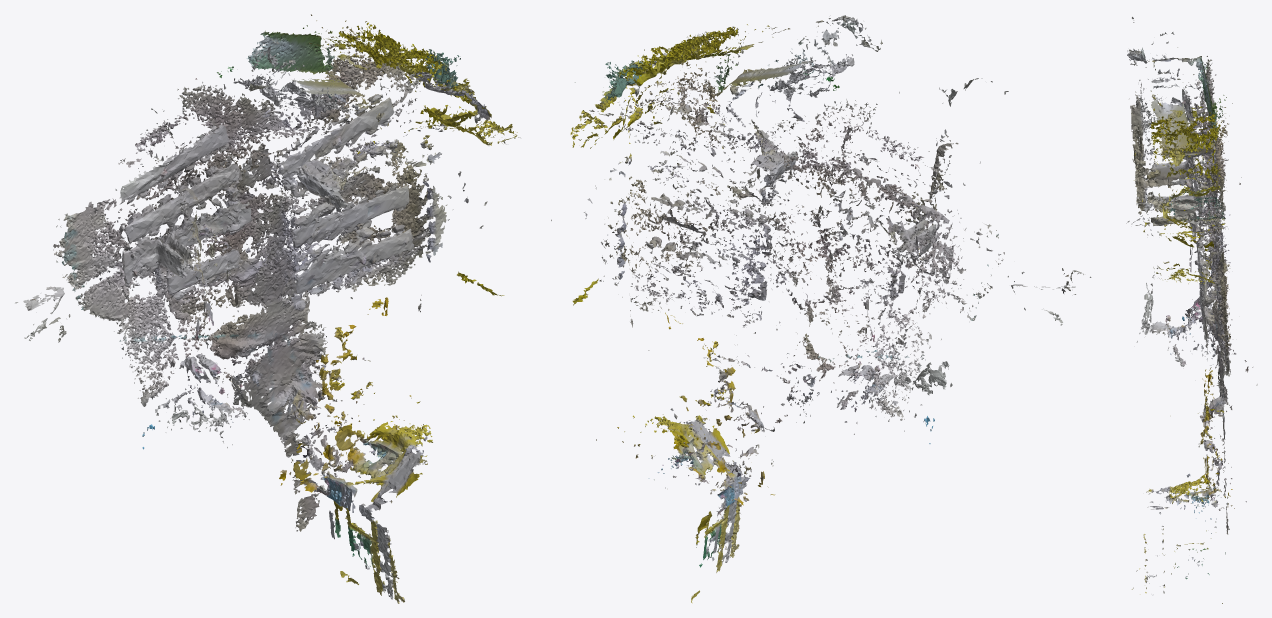
File: cafeteria_gsicp.glb
3 views of the same model, side by side, from view 1: azimuth 30°, elevation 25°; view 2: azimuth 150°, elevation 25°; view 3: azimuth 270°, elevation 25° (orthographic). The views are drawn at different scales.
Parts seen in each view (by area): view 1: cafeteria_gsicp.ply; view 2: cafeteria_gsicp.ply; view 3: cafeteria_gsicp.ply.
Part boxes in pixels (x1,y1,x2,y2): cafeteria_gsicp.ply: (15, 14, 520, 603); cafeteria_gsicp.ply: (551, 15, 1091, 603); cafeteria_gsicp.ply: (1126, 17, 1257, 603).
Size of the model in its own units: 19.3 by 21.59 by 5.11.
